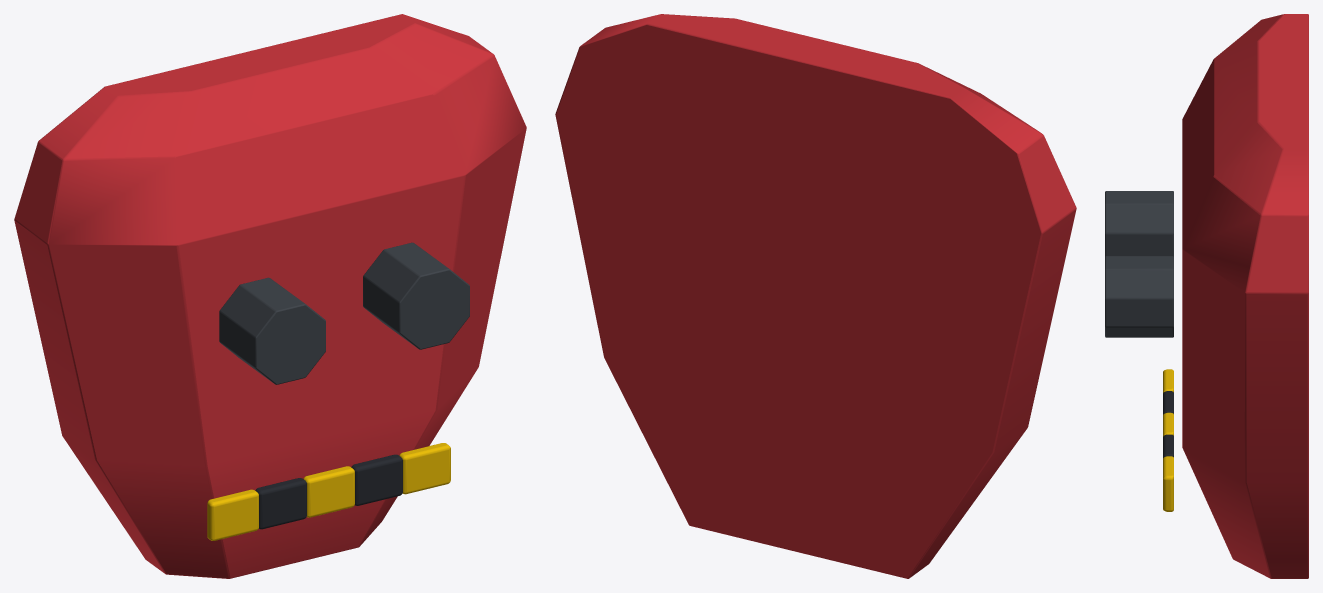
File: HeadBack_Set07_Salvo.fbx
3 views of the same model, side by side, from view 1: azimuth 30°, elevation 25°; view 2: azimuth 150°, elevation 25°; view 3: azimuth 270°, elevation 25° (orthographic). The views are drawn at different scales.
Visible parts, largest first — view 1: HeadBack_Set07_Salvo; view 2: HeadBack_Set07_Salvo; view 3: HeadBack_Set07_Salvo.
Part boxes in pixels (x1=…): HeadBack_Set07_Salvo: x1=14, y1=14, x2=526, y2=578; HeadBack_Set07_Salvo: x1=555, y1=14, x2=1076, y2=578; HeadBack_Set07_Salvo: x1=1105, y1=14, x2=1308, y2=578.
Bounding box in the file's own units: 0.5596 × 0.54 × 0.222.
